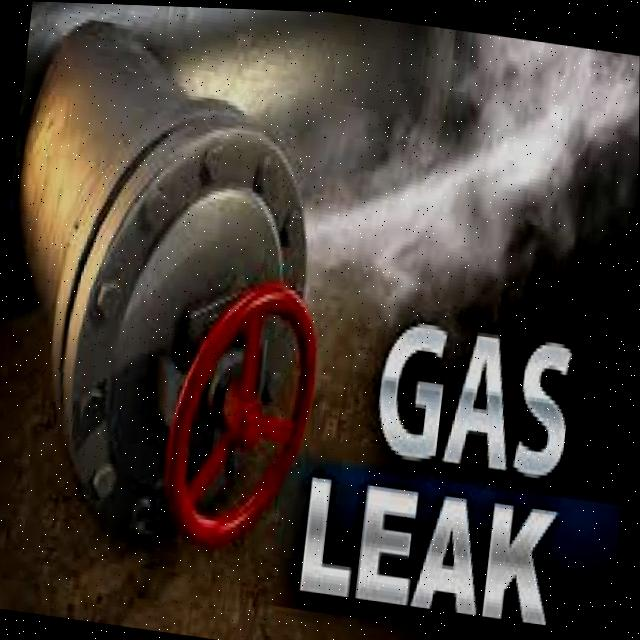corrosion: (245, 133, 517, 333)
